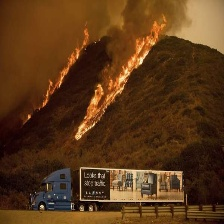fire: (77, 23, 167, 138), (24, 29, 93, 125)
smoke: (3, 4, 66, 104), (102, 2, 138, 57)
